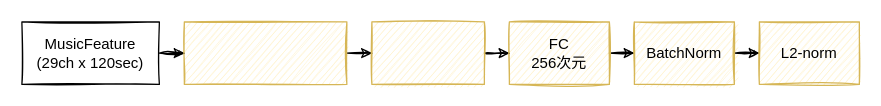
Image size: 881x106. Some labels were removed from this diagram. Each missing label, with the box of its shape:
2D-CNN (EfficientNet-V2-B0): (183, 21, 347, 84)
GeM Pooling p=3.0: (371, 21, 484, 84)
